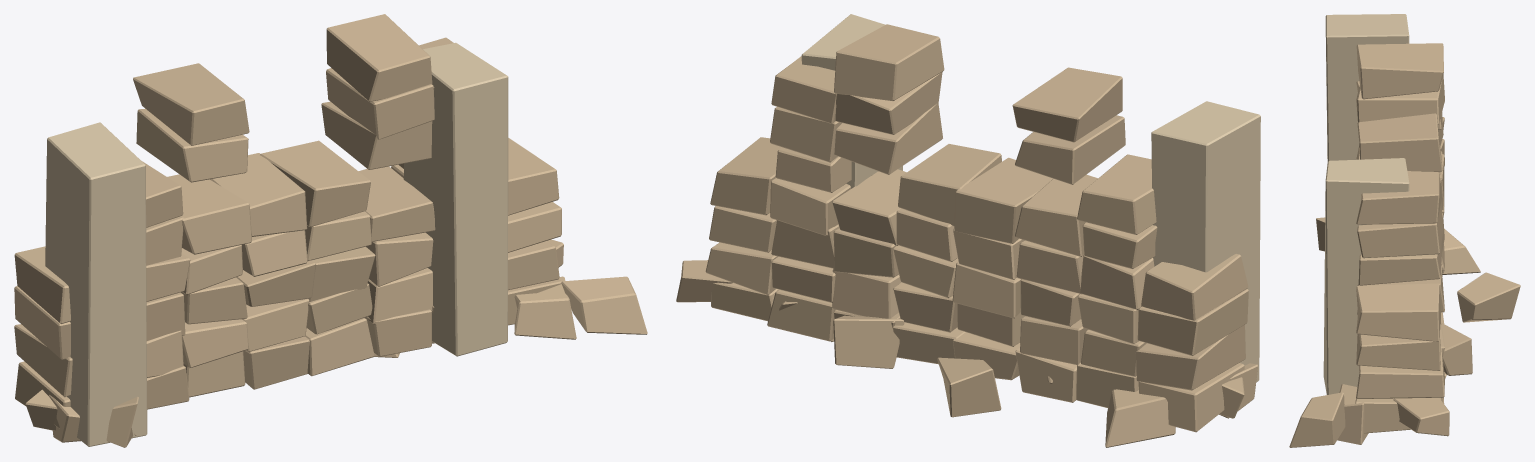
Rendered from ruinwall.glb.
3 views of the same model, side by side, from view 1: azimuth 30°, elevation 25°; view 2: azimuth 150°, elevation 25°; view 3: azimuth 270°, elevation 25° (orthographic). The views are drawn at different scales.
Parts seen in each view (by area): view 1: ruinwall_stone, ruinwall_trim; view 2: ruinwall_stone, ruinwall_trim; view 3: ruinwall_stone, ruinwall_trim.
Boxes of the visible parts, <box> form: ruinwall_stone: <box>14,14,647,447</box>; ruinwall_trim: <box>45,42,508,446</box>; ruinwall_stone: <box>676,24,1257,447</box>; ruinwall_trim: <box>801,14,1260,382</box>; ruinwall_stone: <box>1289,43,1520,447</box>; ruinwall_trim: <box>1323,14,1409,394</box>.
Size of the model in its own units: 10.46 by 5.58 by 4.54.
